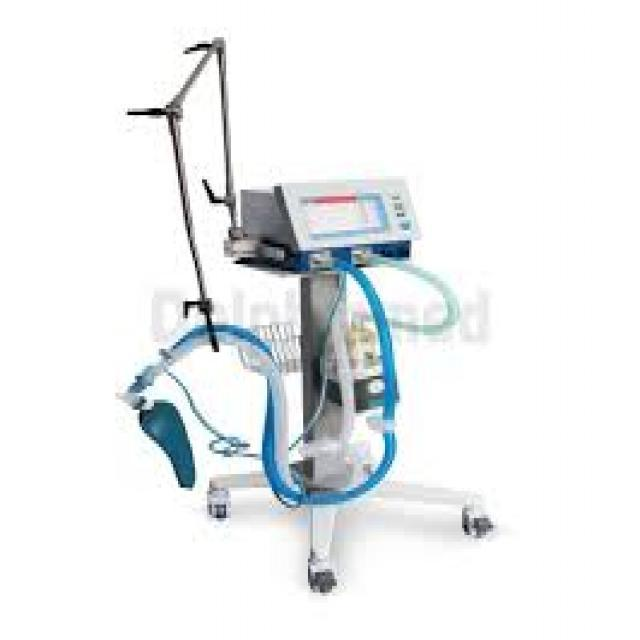ventilator: (96, 18, 526, 590)
